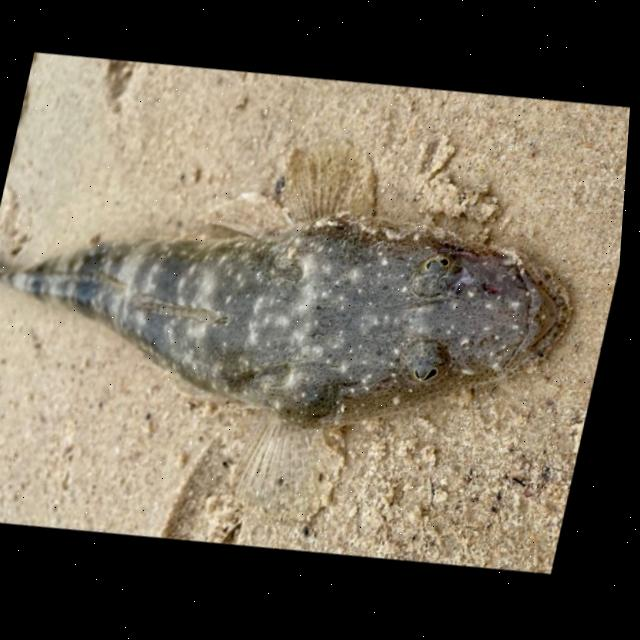Flathead: (0, 78, 614, 593)
